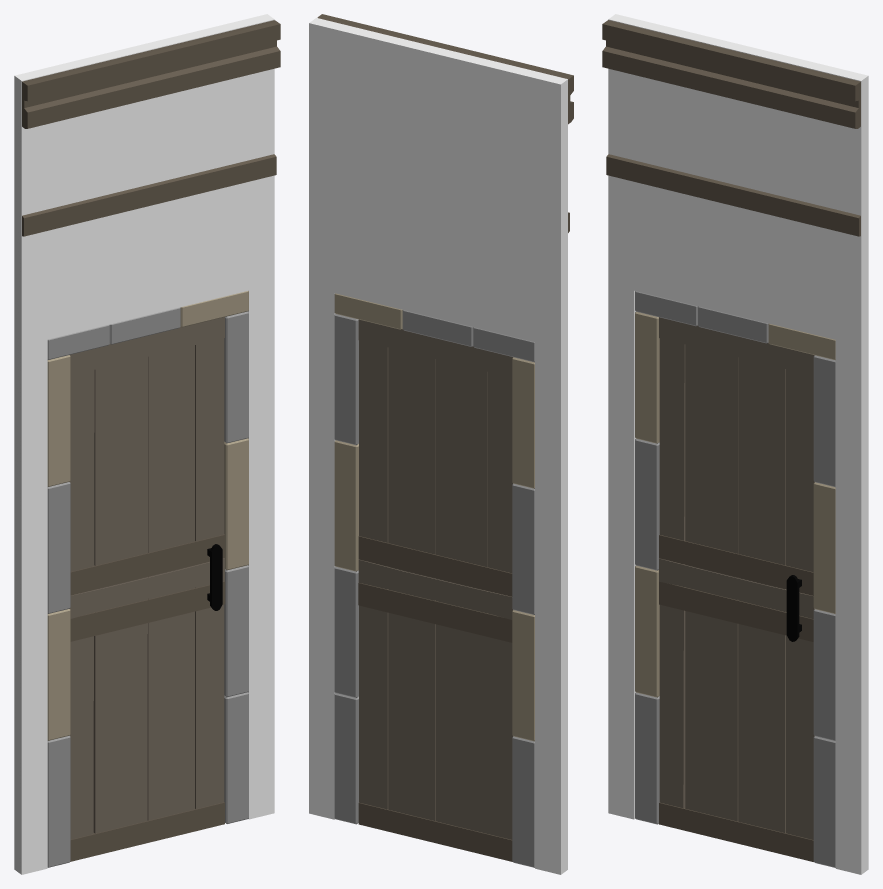
The model's file is DOOR_02_1.fbx.
The picture shows the model from 3 angles, left to right: view 1: azimuth 30°, elevation 25°; view 2: azimuth 150°, elevation 25°; view 3: azimuth 330°, elevation 25°; orthographic projection.
Visible parts, largest first — view 1: DOOR_02_1; view 2: DOOR_02_1; view 3: DOOR_02_1.
Part boxes in pixels (left/top/right/bottom): DOOR_02_1: left=14, top=14, right=280, bottom=874; DOOR_02_1: left=309, top=14, right=573, bottom=874; DOOR_02_1: left=602, top=14, right=868, bottom=874.
Bounding box in the file's own units: 100 × 300 × 8.99.
